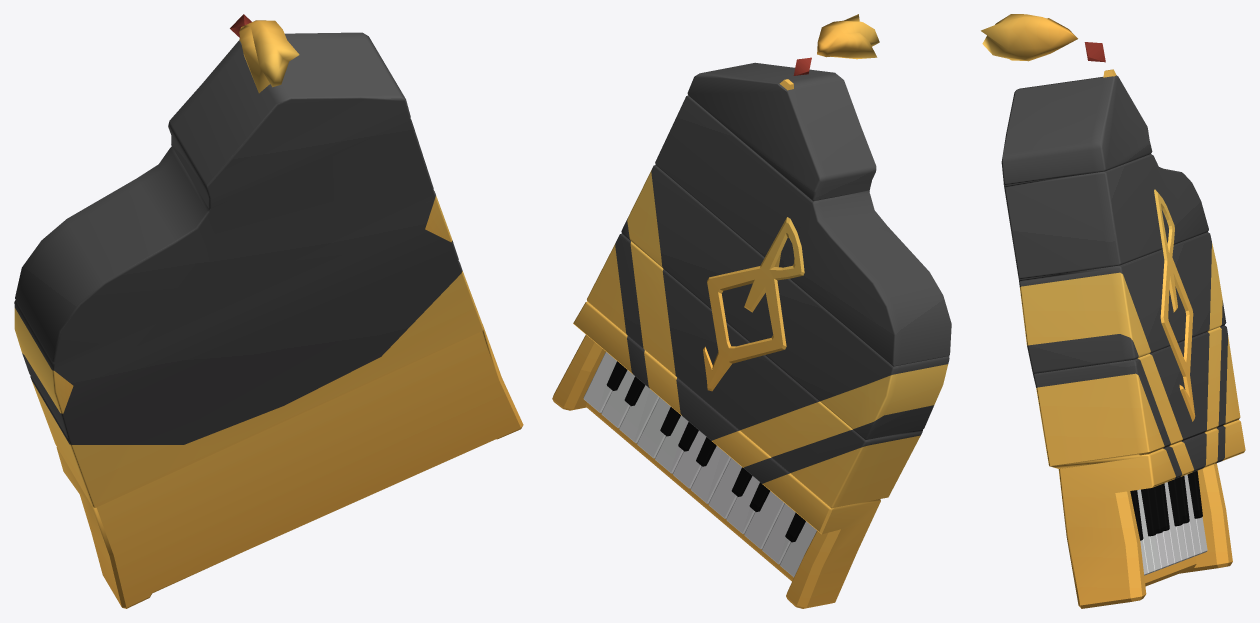
The model's file is CharSkyKid_Prop_APPiano_02.glb.
3 views of the same model, side by side, from view 1: azimuth 30°, elevation 25°; view 2: azimuth 150°, elevation 25°; view 3: azimuth 270°, elevation 25° (orthographic). The views are drawn at different scales.
Visible parts, largest first — view 1: CharSkyKid_Prop_APPiano_02; view 2: CharSkyKid_Prop_APPiano_02; view 3: CharSkyKid_Prop_APPiano_02.
Boxes of the visible parts, x1,y1,x2,y2 form: CharSkyKid_Prop_APPiano_02: [14, 14, 523, 608]; CharSkyKid_Prop_APPiano_02: [552, 14, 951, 608]; CharSkyKid_Prop_APPiano_02: [981, 14, 1245, 608].
Size of the model in its own units: 5.04 by 6.49 by 2.66.
1 material, 1 textured.
